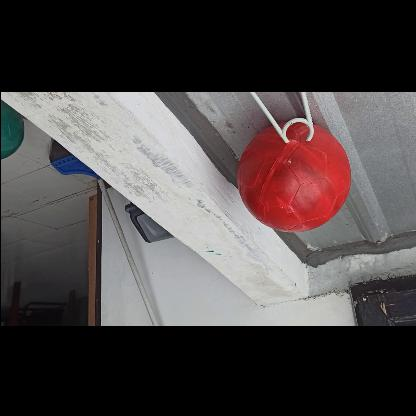red_ball: (236, 118, 350, 232)
